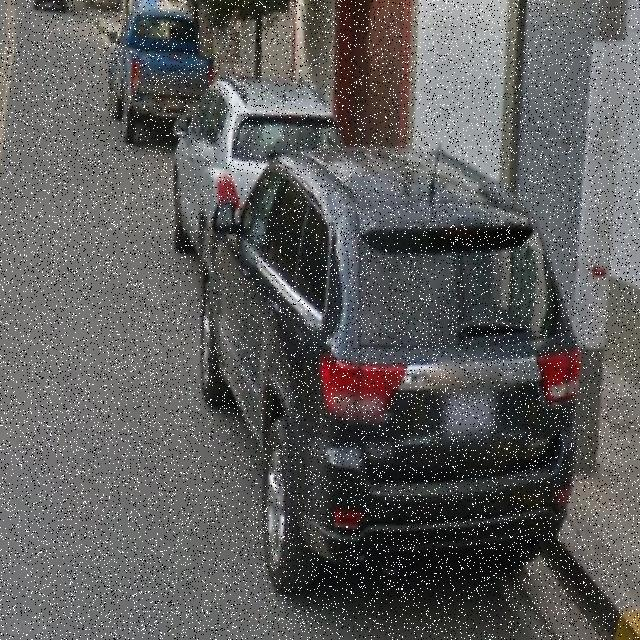cars: (227, 148, 578, 585), (172, 75, 280, 239), (101, 0, 199, 137)
